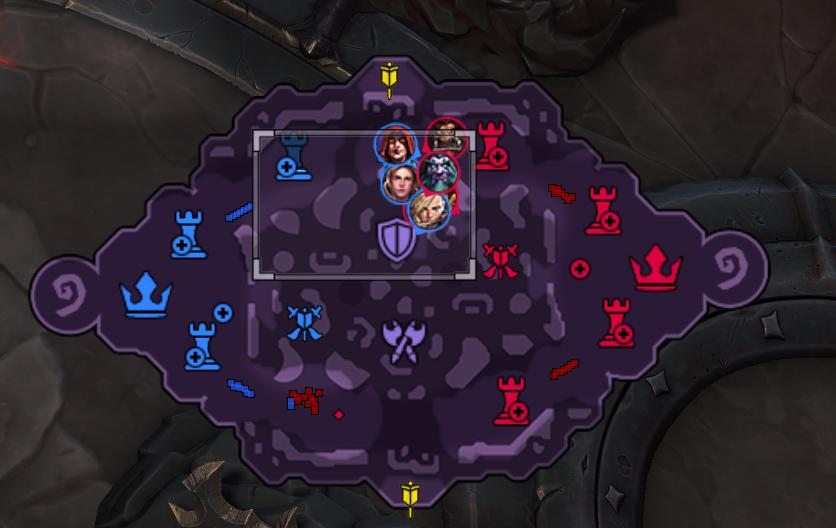blue nexus: (115, 264, 178, 320)
blue player: (374, 122, 417, 166), (407, 190, 451, 232), (381, 161, 422, 204)
blue tower: (182, 320, 221, 373), (169, 207, 208, 259), (274, 132, 313, 181)
red nexus: (628, 242, 684, 291)
red player: (416, 151, 459, 195), (426, 116, 468, 158), (432, 126, 463, 152)
red tower: (596, 296, 635, 348), (491, 374, 530, 426), (583, 184, 622, 235), (474, 119, 510, 171)
